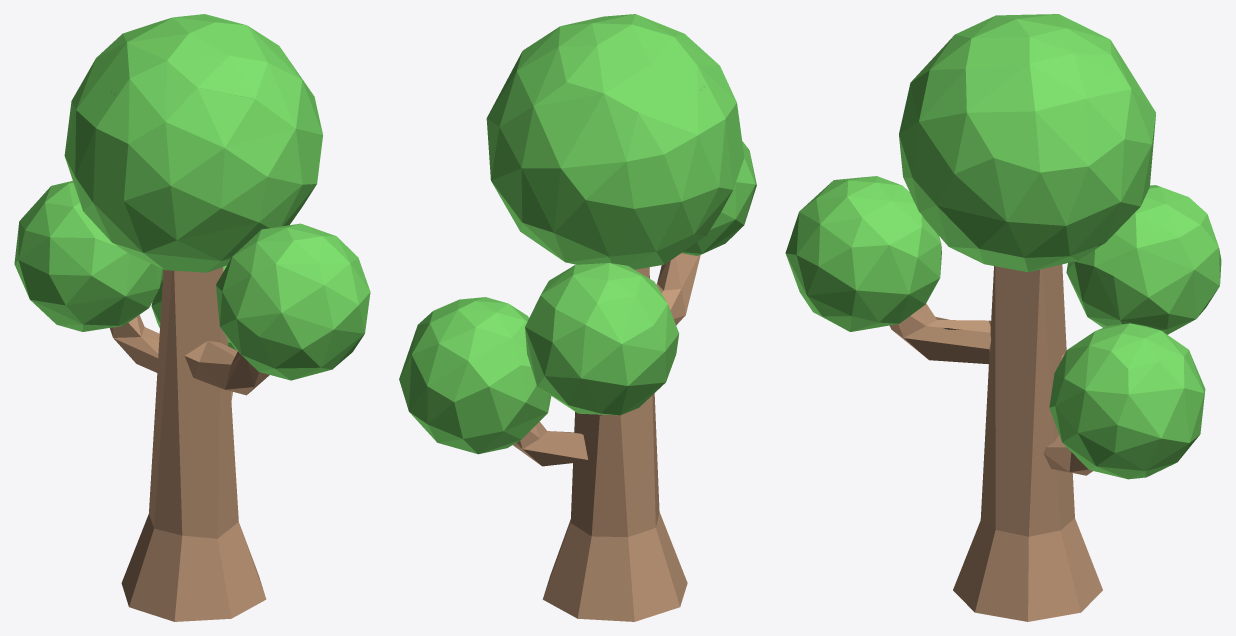
The model's file is TREE #6.fbx.
3 views of the same model, side by side, from view 1: azimuth 30°, elevation 25°; view 2: azimuth 150°, elevation 25°; view 3: azimuth 270°, elevation 25° (orthographic).
Parts seen in each view (by area): view 1: six; view 2: six; view 3: six.
Part boxes in pixels (x1,y1,x2,y2): six: (14, 14, 370, 621); six: (399, 14, 756, 621); six: (785, 14, 1221, 621).
Size of the model in its own units: 451 by 913 by 637.
1 material, 1 textured.
